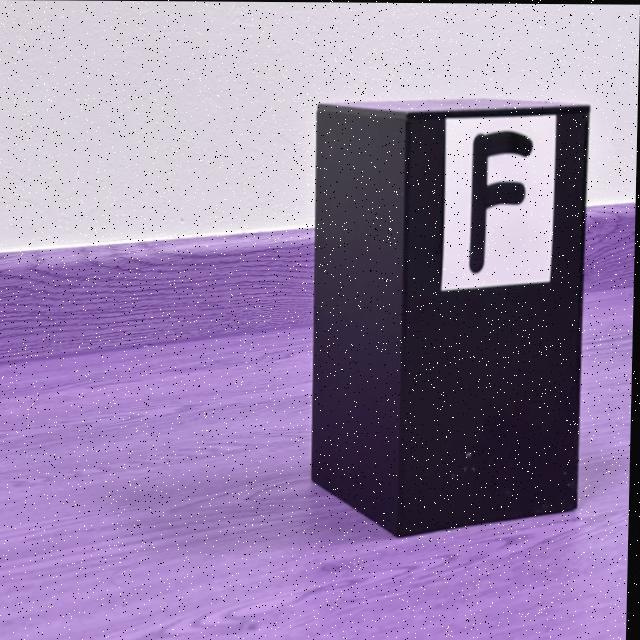F: (470, 130, 534, 273)
